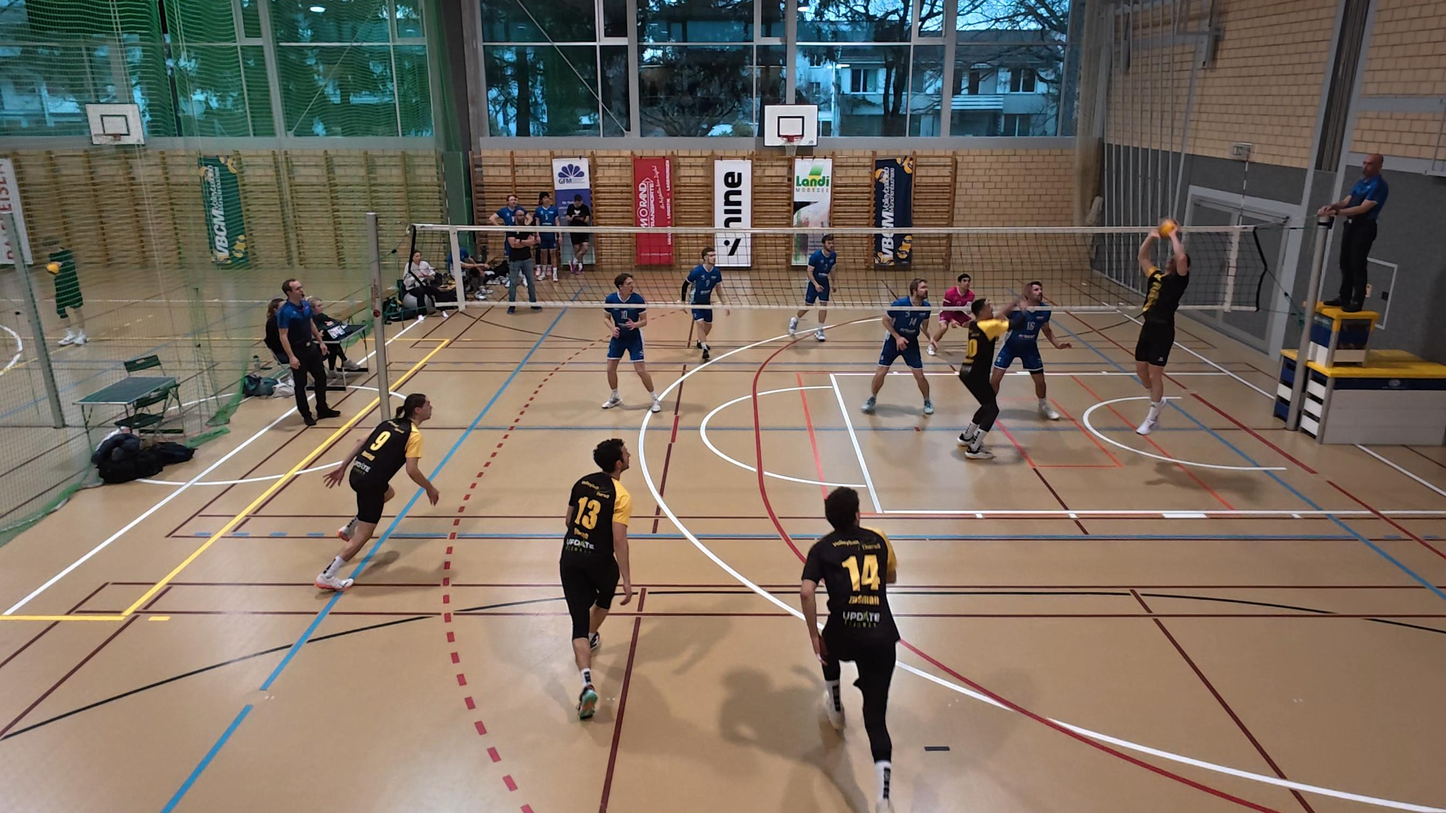Player: (800, 487, 901, 809), (314, 393, 440, 591), (559, 438, 633, 719), (994, 281, 1072, 420), (863, 277, 935, 415), (952, 297, 1008, 458), (603, 273, 662, 410), (786, 233, 838, 341), (680, 248, 727, 361), (927, 272, 976, 355)
Set: (1127, 224, 1192, 436)
ball: (1156, 219, 1180, 237)
